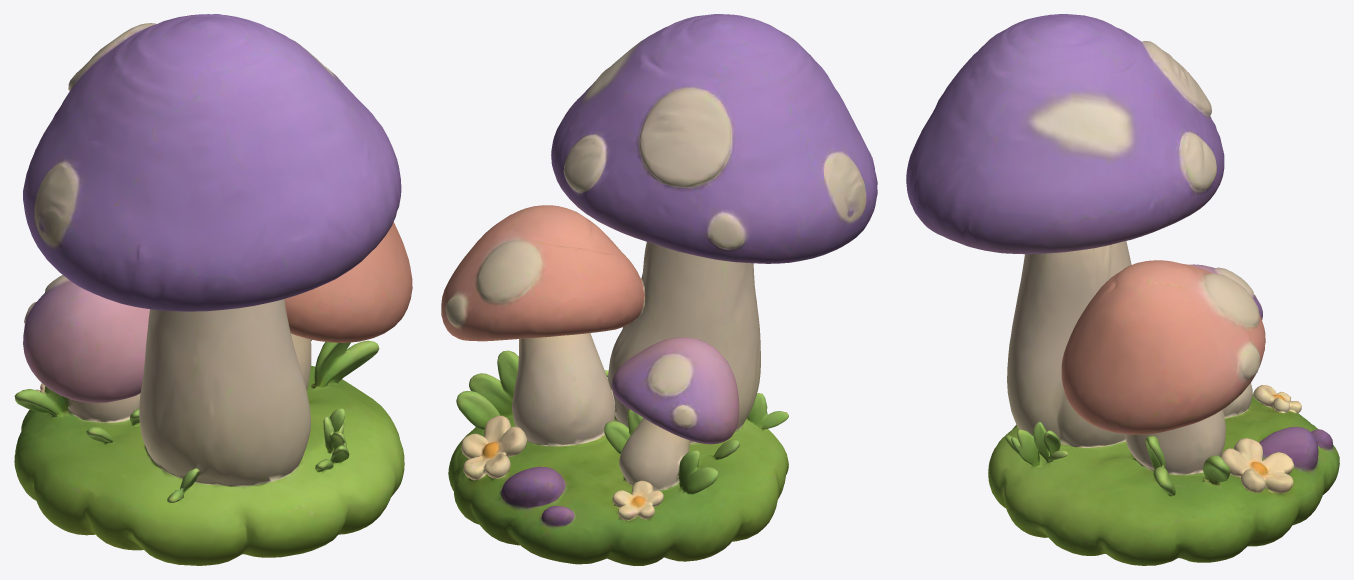
Rendered from item_mushrooms.glb.
3 renders of one model, left to right at view 1: azimuth 30°, elevation 25°; view 2: azimuth 150°, elevation 25°; view 3: azimuth 270°, elevation 25°, orthographic. The views are drawn at different scales.
Visible parts, largest first — view 1: geometry_0; view 2: geometry_0; view 3: geometry_0.
Part boxes in pixels (x1,y1,x2,y2): geometry_0: (14,14,412,565); geometry_0: (441,14,877,565); geometry_0: (906,14,1339,565).
Size of the model in its own units: 0.6848 by 0.8573 by 0.733.
1 material, 1 textured.
